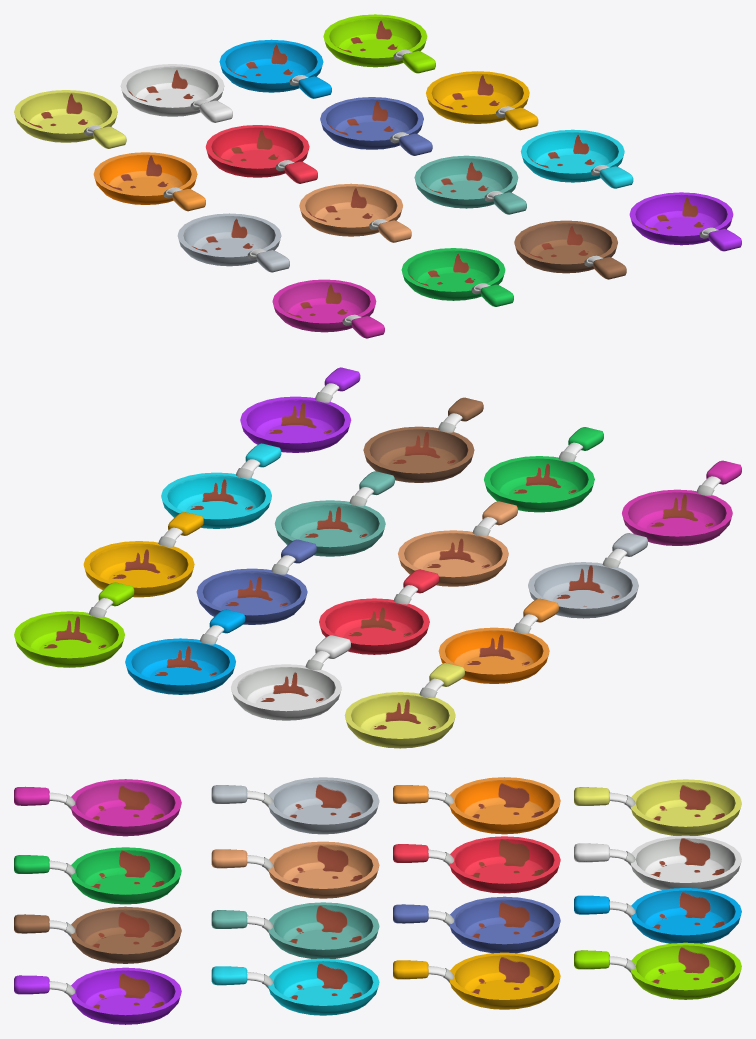
The model's file is Pans.fbx.
The picture shows the model from 3 angles, top to bottom: view 1: azimuth 30°, elevation 25°; view 2: azimuth 150°, elevation 25°; view 3: azimuth 270°, elevation 25°; orthographic projection. The views are drawn at different scales.
Parts seen in each view (by area): view 1: Pan_07, Pan_01, Pan_08, Pan_15, Pan_16, Pan_11, Pan_03, Pan_06, Pan_10, Pan_02, Pan_04, Pan_09 (+4 smaller); view 2: Pan_04, Pan_03, Pan_02, Pan_01, Pan_13, Pan_15, Pan_14, Pan_16, Pan_05, Pan_09, Pan_06, Pan_11 (+4 smaller); view 3: Pan_12, Pan_10, Pan_16, Pan_08, Pan_04, Pan_09, Pan_06, Pan_14, Pan_15, Pan_11, Pan_05, Pan_13 (+4 smaller).
Boxes of the visible parts, x1,y1,x2,y2 form: Pan_07: [320, 97, 432, 155]; Pan_01: [14, 90, 126, 148]; Pan_08: [426, 71, 538, 130]; Pan_15: [514, 220, 626, 279]; Pan_16: [629, 192, 741, 251]; Pan_11: [414, 155, 526, 214]; Pan_03: [219, 39, 331, 98]; Pan_06: [205, 125, 317, 183]; Pan_10: [299, 183, 411, 242]; Pan_02: [120, 64, 232, 122]; Pan_04: [323, 14, 435, 73]; Pan_09: [177, 213, 289, 272]; Pan_04: [14, 582, 134, 667]; Pan_03: [125, 609, 245, 694]; Pan_02: [231, 635, 350, 720]; Pan_01: [344, 663, 464, 748]; Pan_13: [622, 460, 741, 545]; Pan_15: [363, 397, 483, 482]; Pan_14: [484, 427, 603, 512]; Pan_16: [240, 367, 360, 452]; Pan_05: [438, 598, 558, 683]; Pan_09: [528, 533, 647, 618]; Pan_06: [319, 569, 438, 654]; Pan_11: [274, 471, 394, 556]; Pan_12: [211, 958, 379, 1015]; Pan_10: [211, 841, 379, 898]; Pan_16: [14, 967, 181, 1024]; Pan_08: [393, 952, 560, 1009]; Pan_04: [574, 942, 741, 999]; Pan_09: [211, 777, 379, 834]; Pan_06: [393, 836, 560, 893]; Pan_14: [14, 847, 181, 904]; Pan_15: [14, 906, 181, 963]; Pan_11: [211, 902, 379, 958]; Pan_05: [393, 777, 560, 834]; Pan_13: [14, 779, 181, 836].
Bounding box in the file's own units: 847 × 48.28 × 1094.
1 material, 1 textured.
